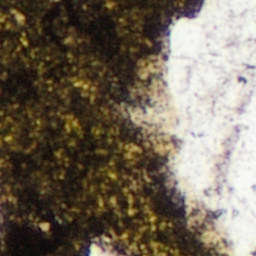cement_matrix: (0, 0, 221, 255)
gravel_crushed_stones: (128, 0, 255, 255), (88, 242, 117, 255)
